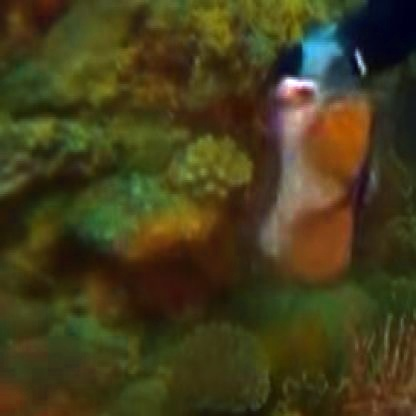plastic: (257, 44, 378, 290)
